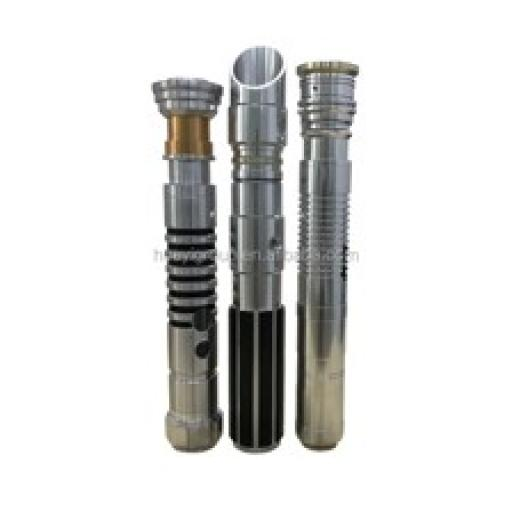lightsaber: (152, 74, 223, 452), (294, 60, 354, 449), (230, 45, 285, 453)
